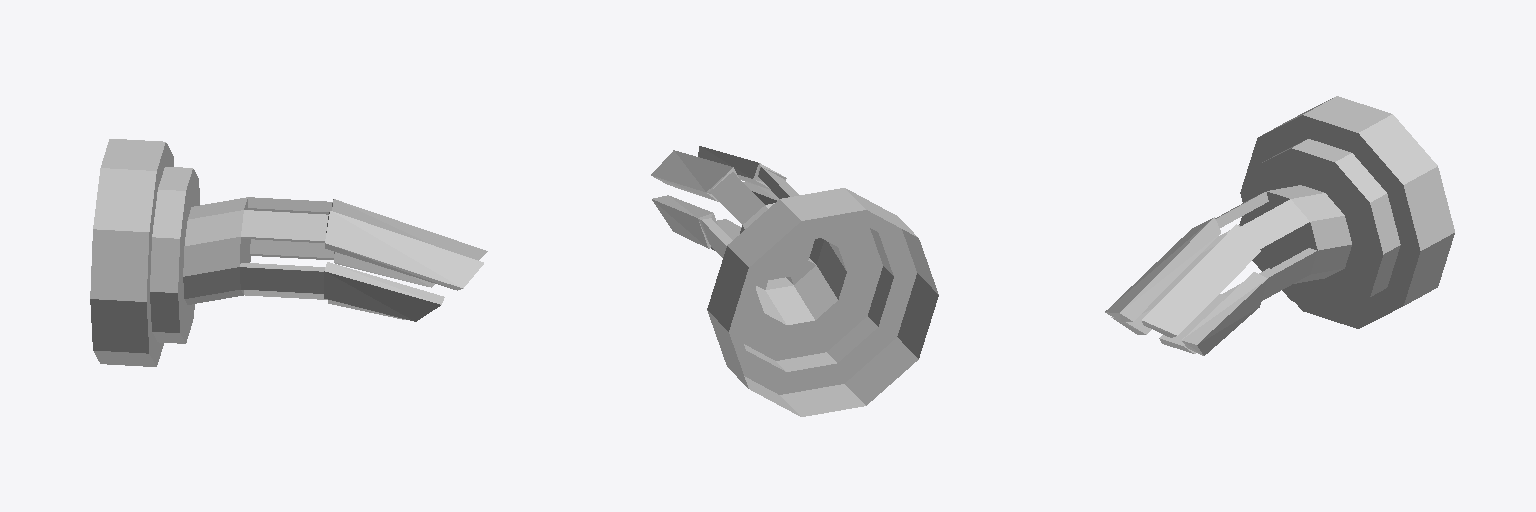
File: prop_lamp.obj
3 views of the same model, side by side, from view 1: azimuth 30°, elevation 25°; view 2: azimuth 150°, elevation 25°; view 3: azimuth 270°, elevation 25° (orthographic).
Visible parts, largest first — view 1: polySurface175 polySurface170; view 2: polySurface175 polySurface170; view 3: polySurface175 polySurface170.
Boxes of the visible parts, x1=… form: polySurface175 polySurface170: x1=90, y1=139, x2=487, y2=366; polySurface175 polySurface170: x1=651, y1=146, x2=938, y2=416; polySurface175 polySurface170: x1=1105, y1=96, x2=1454, y2=355.
Size of the model in its own units: 13.67 by 7.61 by 12.33.